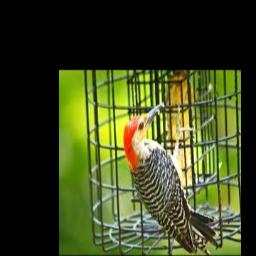Woodpecker: (123, 101, 216, 254)
